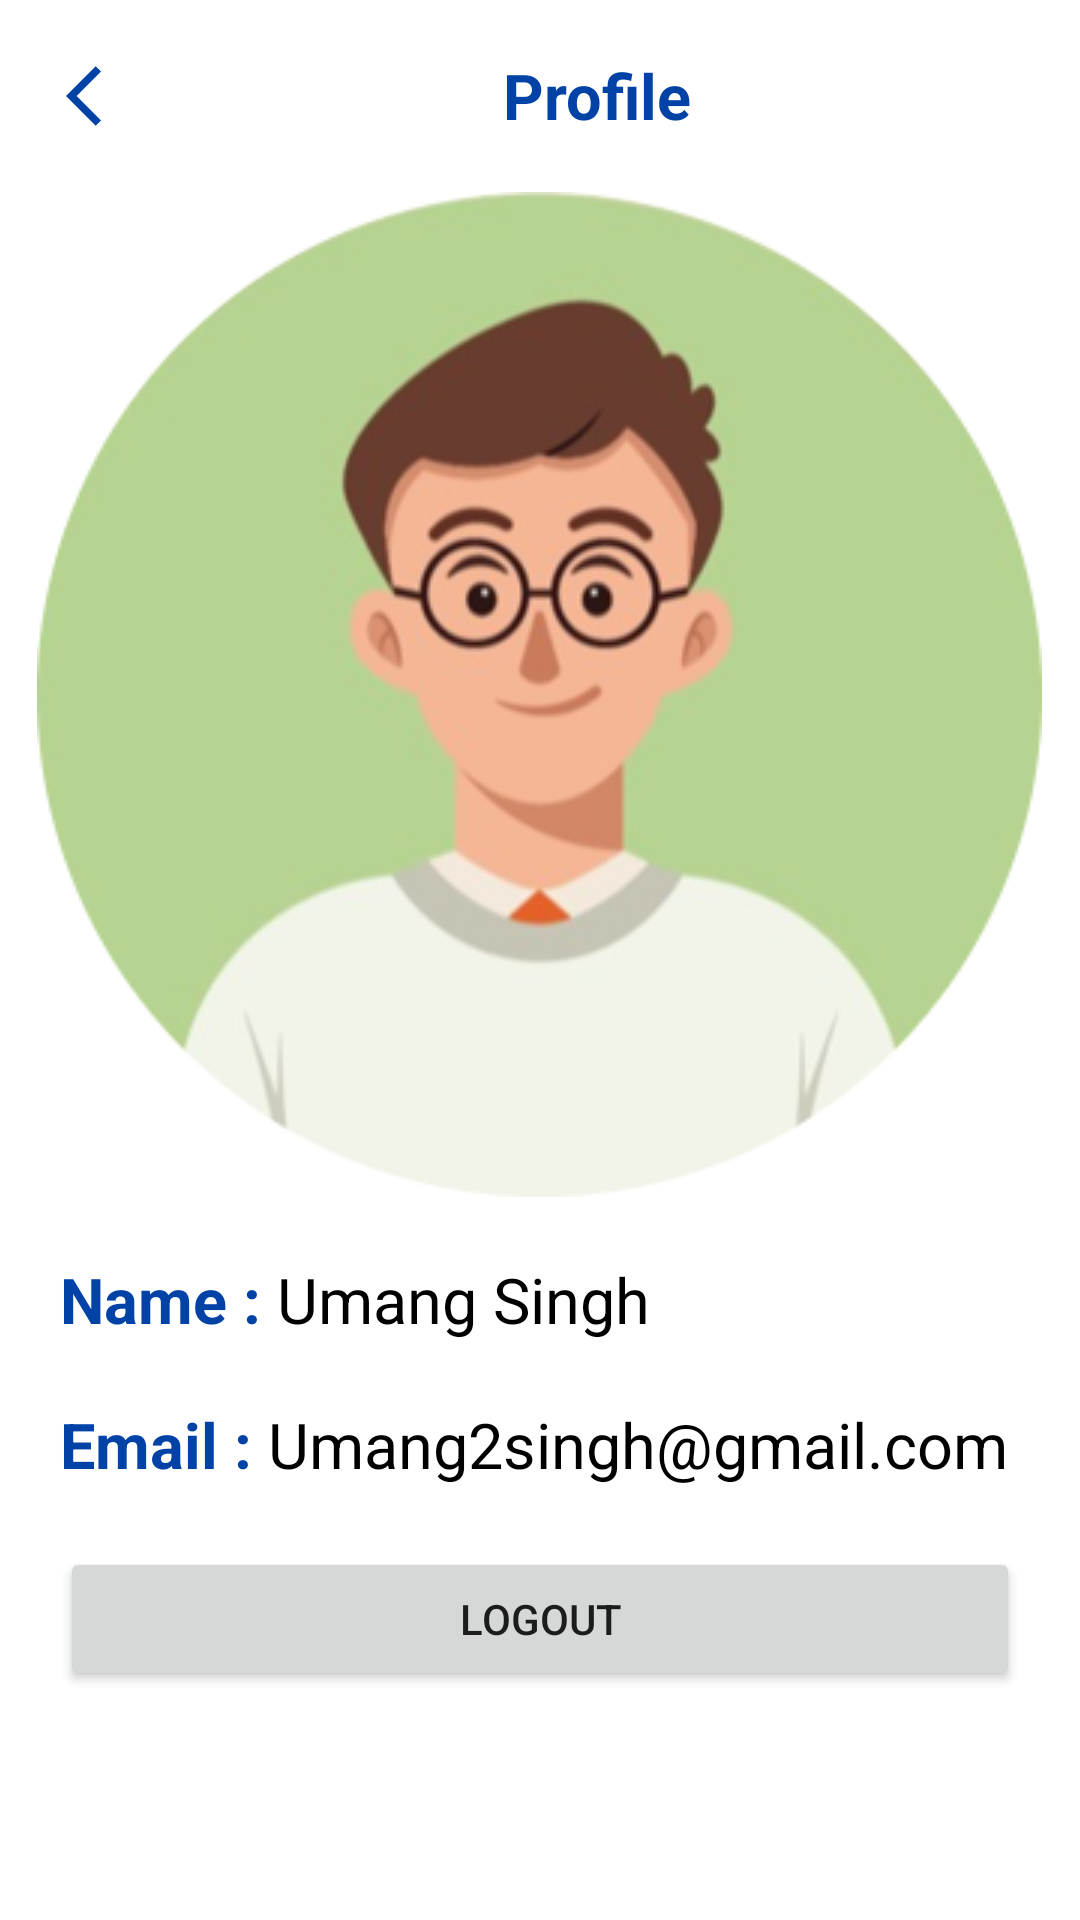

Icons on this 1080w x 1920h Android screen, each with the point to tap as point (x, y):
back: point (83, 96)
